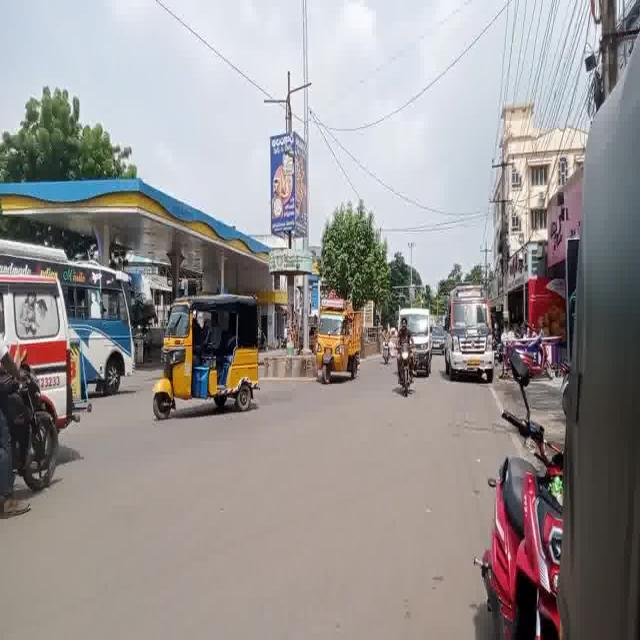ambulance: (4, 272, 79, 416), (447, 289, 488, 390)
